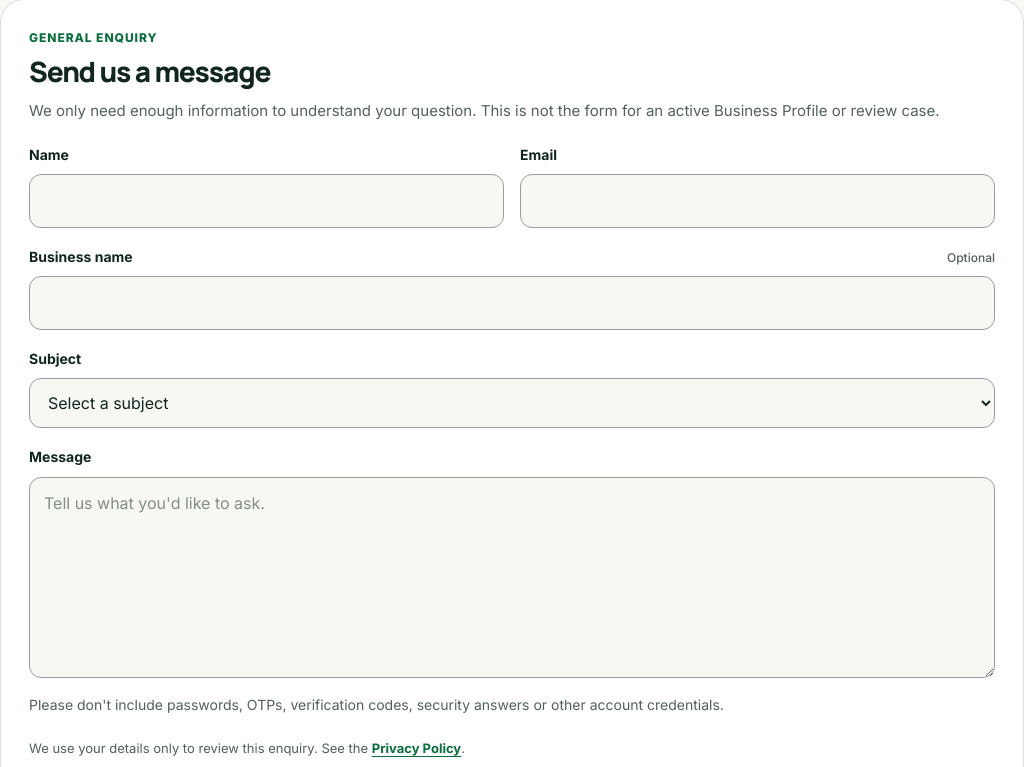
Test: ContactForm › keeps development simulation visually distinct from a live acknowledgement
Type "Alex Morgan" into the field labelled "Name" at (266, 201), box [29,174,504,228]
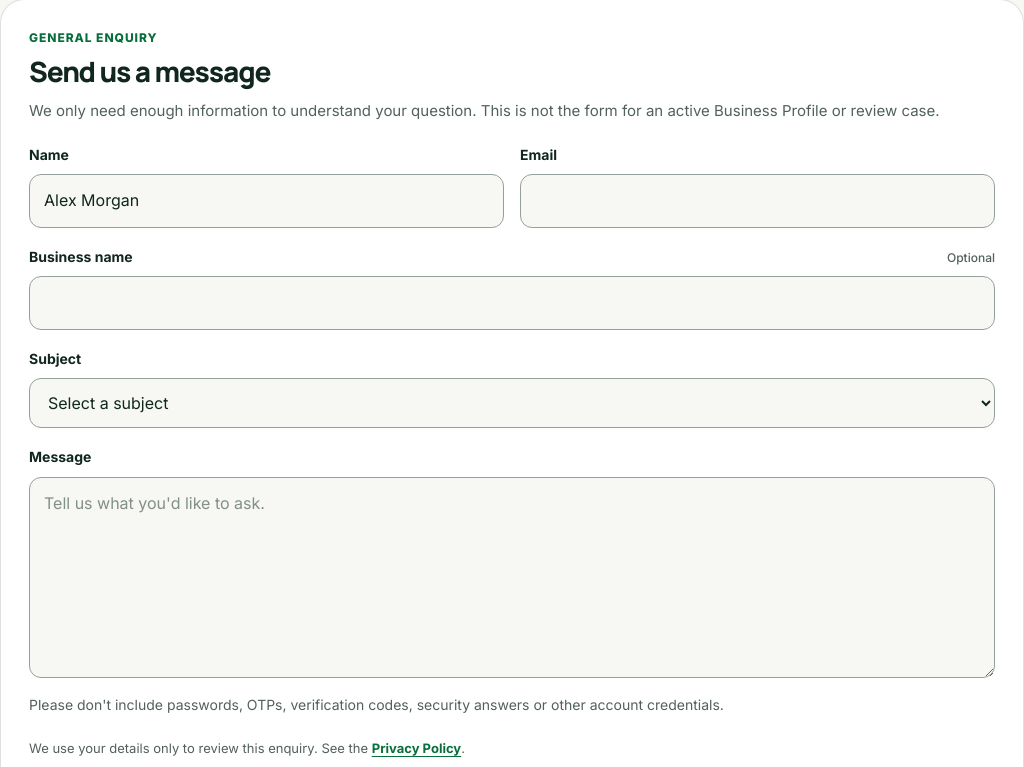
Type "alex@example.com" into the field labelled "Email" at (758, 201), box [520,174,995,228]
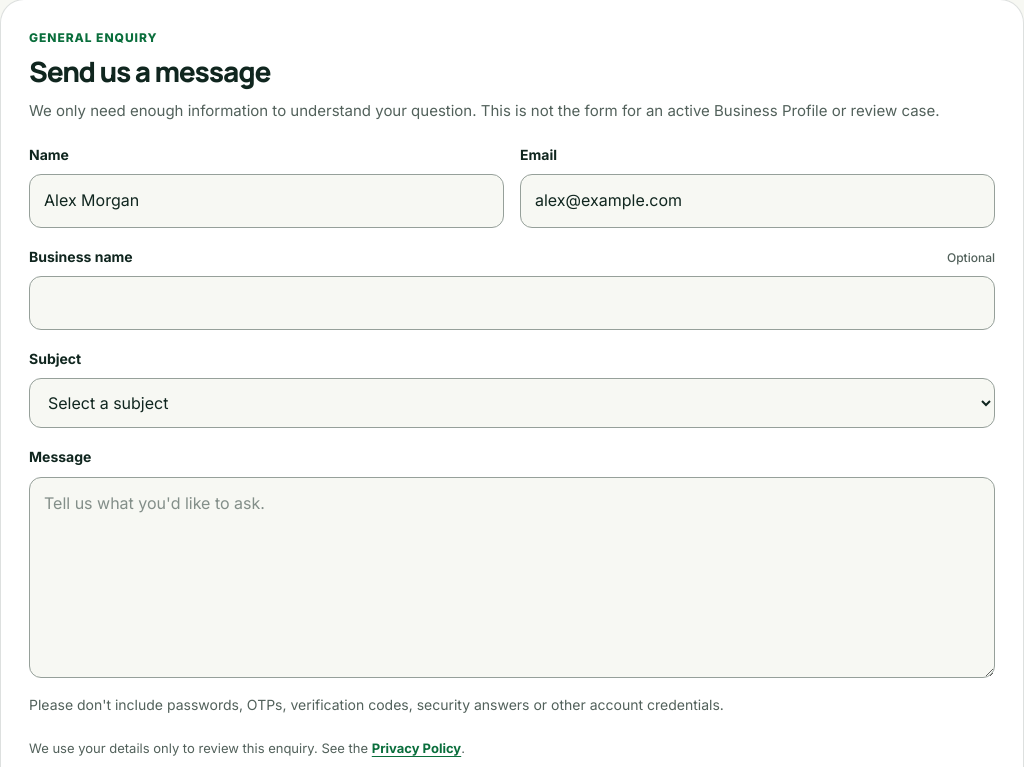
Select "General question" in the dropdown labelled "Subject" at (512, 403), box [29,378,995,428]
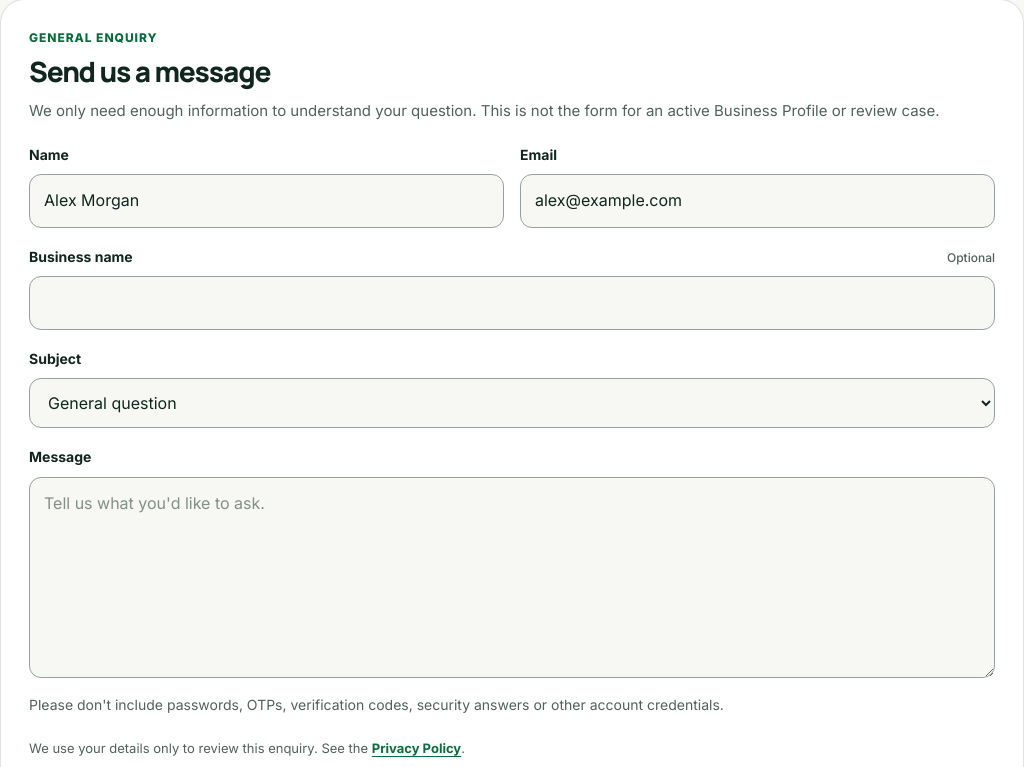
Type "Could you explain how ProfileRelaunch assessments work before we start?" into the text box labelled "Message" at (512, 578), box [29,477,995,678]
(page scrolled)
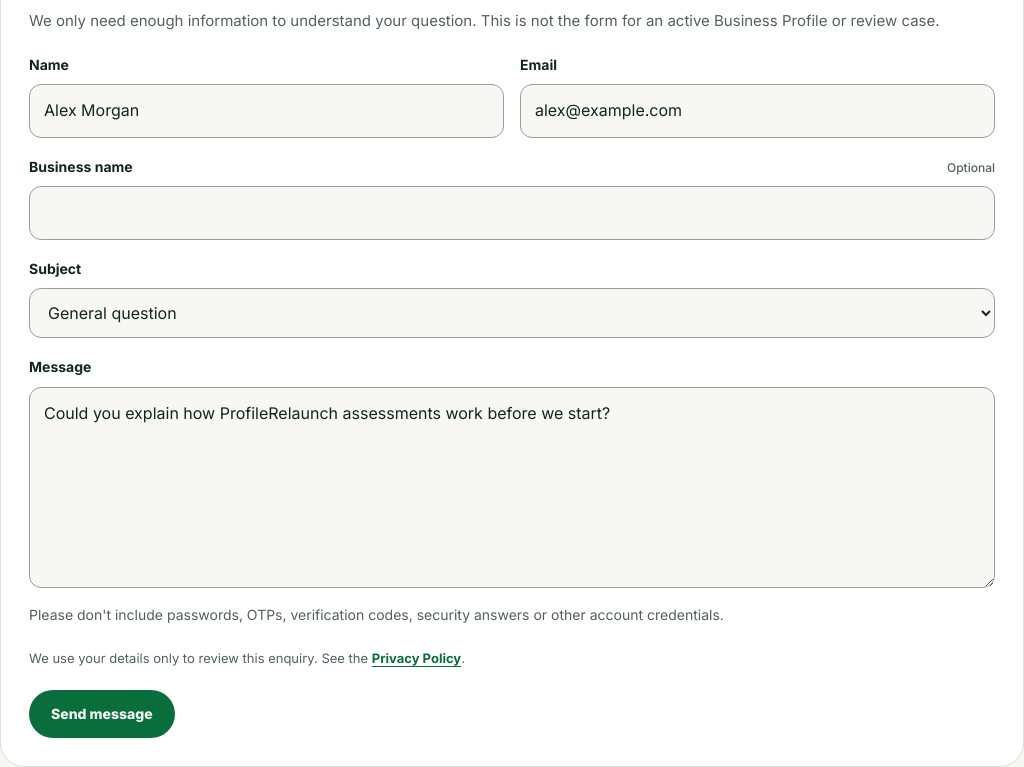
Click the button "Send message" at (102, 714), box [29,690,175,738]
(page scrolled)
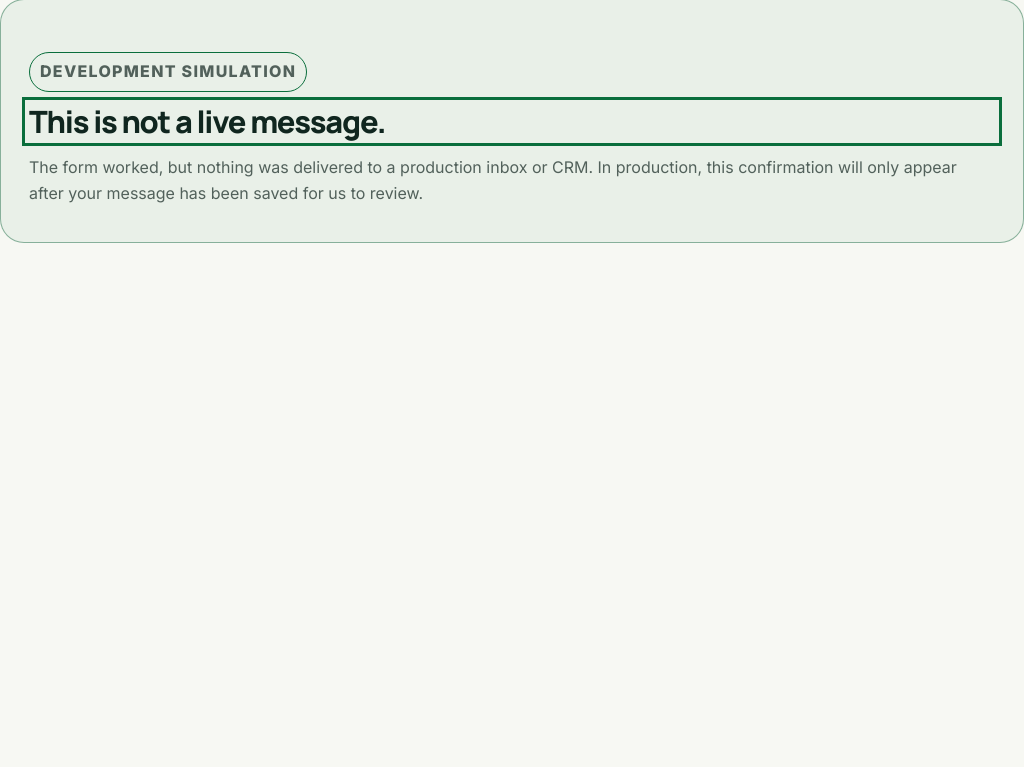
expect the text "Development simulation" is shown: met, box [29,52,307,92]
expect the heading "This is not a live message." is shown: met, box [29,100,385,142]
expect the text "The form worked, but nothing was delivered to a production inbox or CRM. In production, this confirmation will only appe" is shown: met, box [29,157,957,202]
